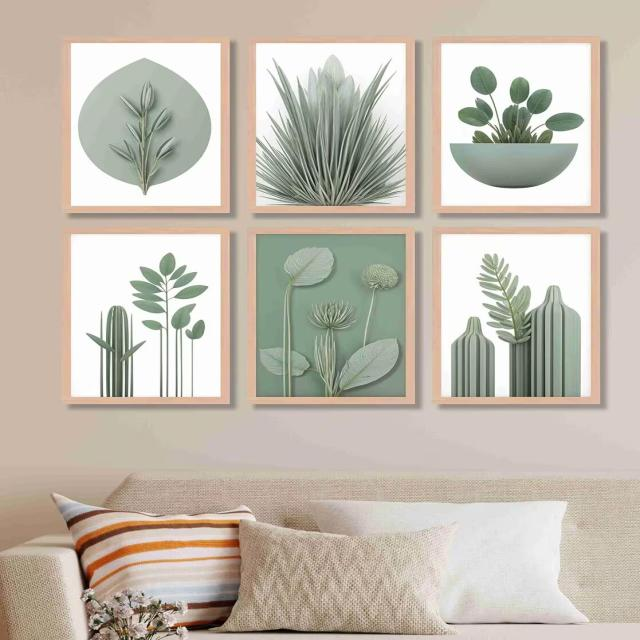painting: (62, 34, 231, 213), (64, 227, 232, 407), (251, 226, 419, 406), (251, 39, 419, 219), (432, 37, 600, 217), (436, 226, 604, 406)
